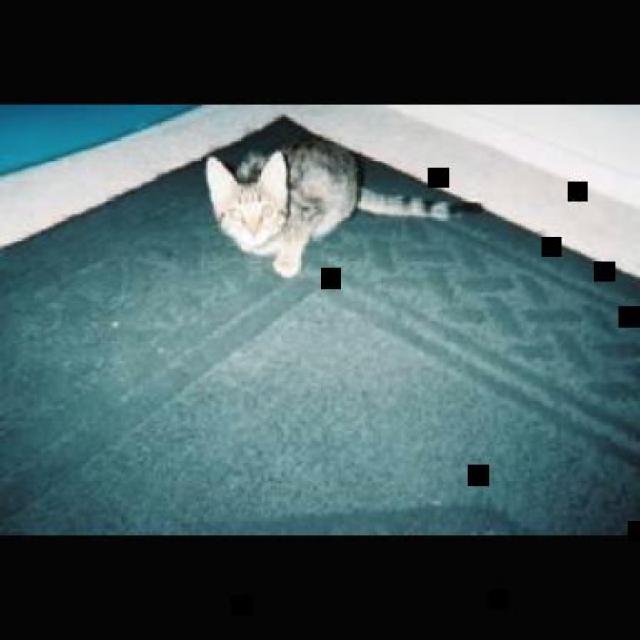unauthorized: (203, 136, 483, 278)
